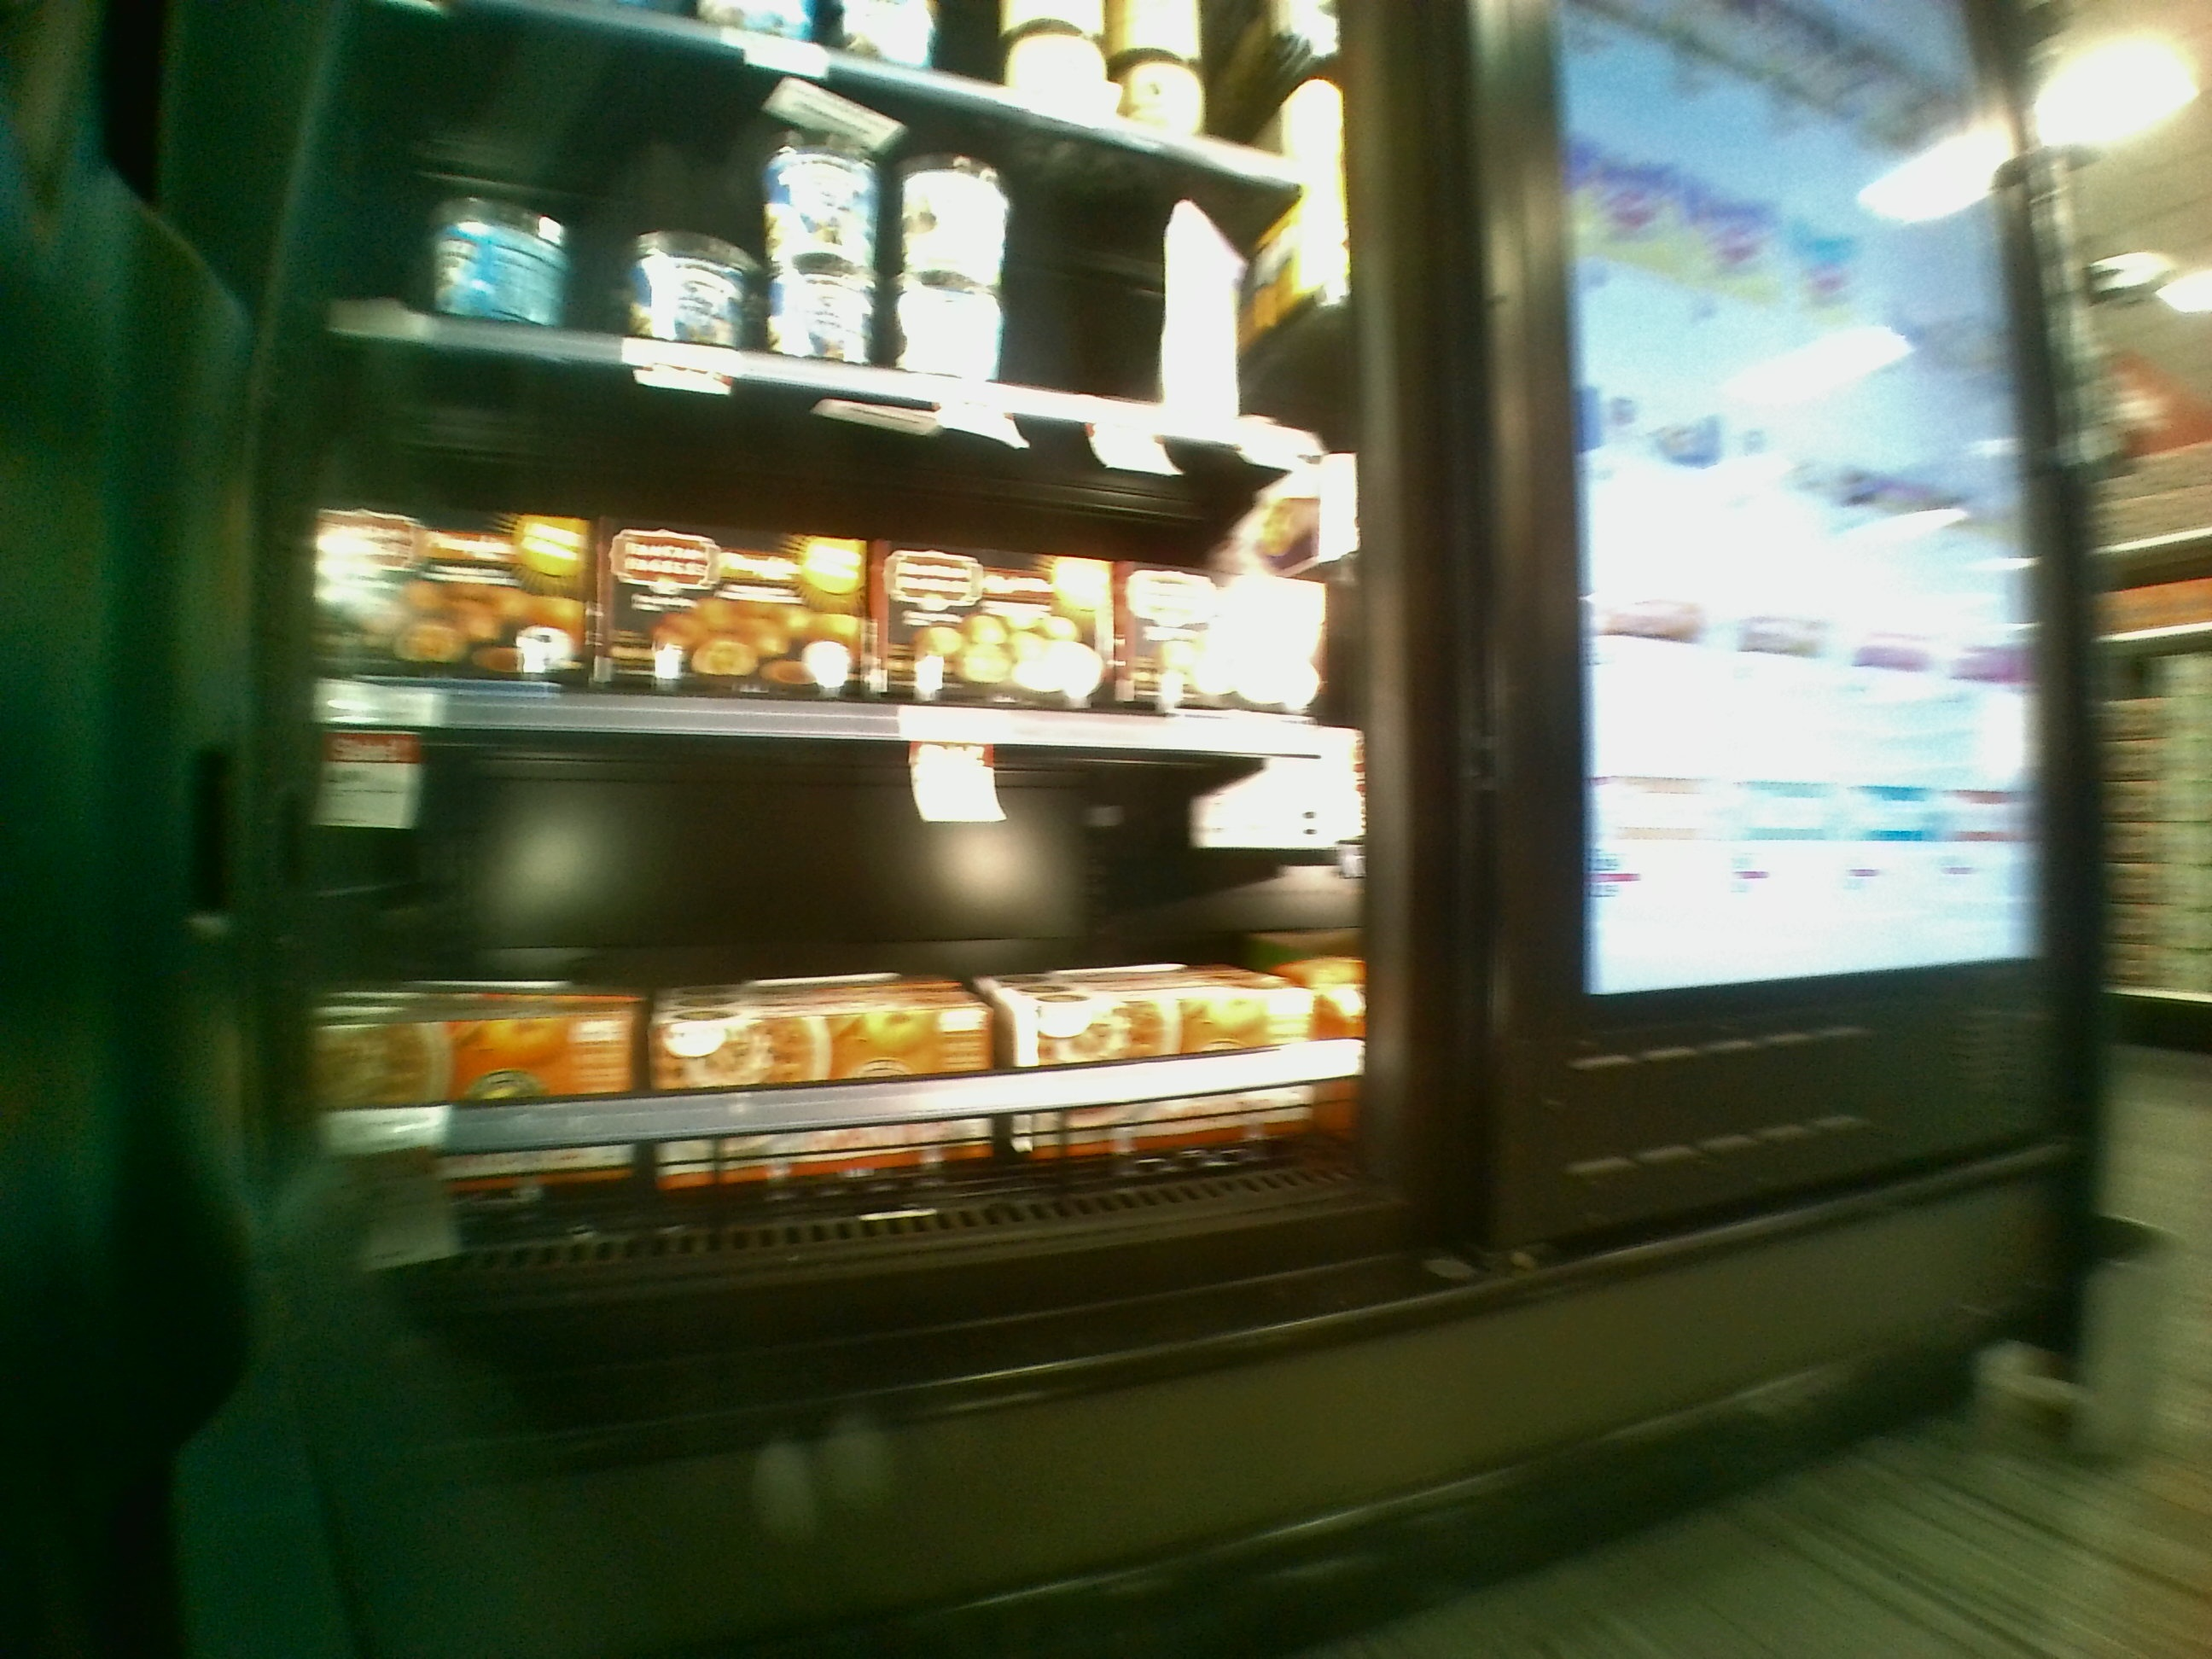shelf: (273, 695, 1421, 1293), (301, 310, 1346, 748)
